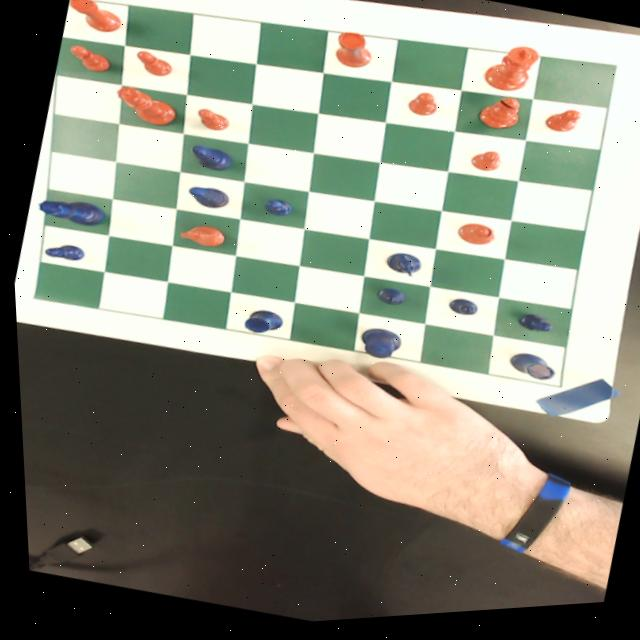B: (185, 143, 235, 178), (181, 182, 231, 215)
K: (351, 327, 401, 369)
N: (377, 251, 423, 286)
P: (40, 238, 84, 265), (513, 316, 553, 342), (371, 288, 405, 313), (442, 299, 476, 324), (258, 198, 292, 222)
Q: (32, 190, 105, 232)
R: (500, 354, 554, 390), (238, 307, 282, 342)
b: (473, 96, 523, 140), (452, 224, 493, 254)
k: (479, 44, 541, 104)
n: (175, 221, 225, 252)
p: (65, 41, 115, 77), (130, 48, 175, 82), (540, 110, 582, 144), (465, 150, 504, 182), (402, 92, 438, 125), (192, 107, 231, 137)
q: (109, 81, 181, 133)
r: (63, 0, 125, 38), (329, 32, 376, 75)
